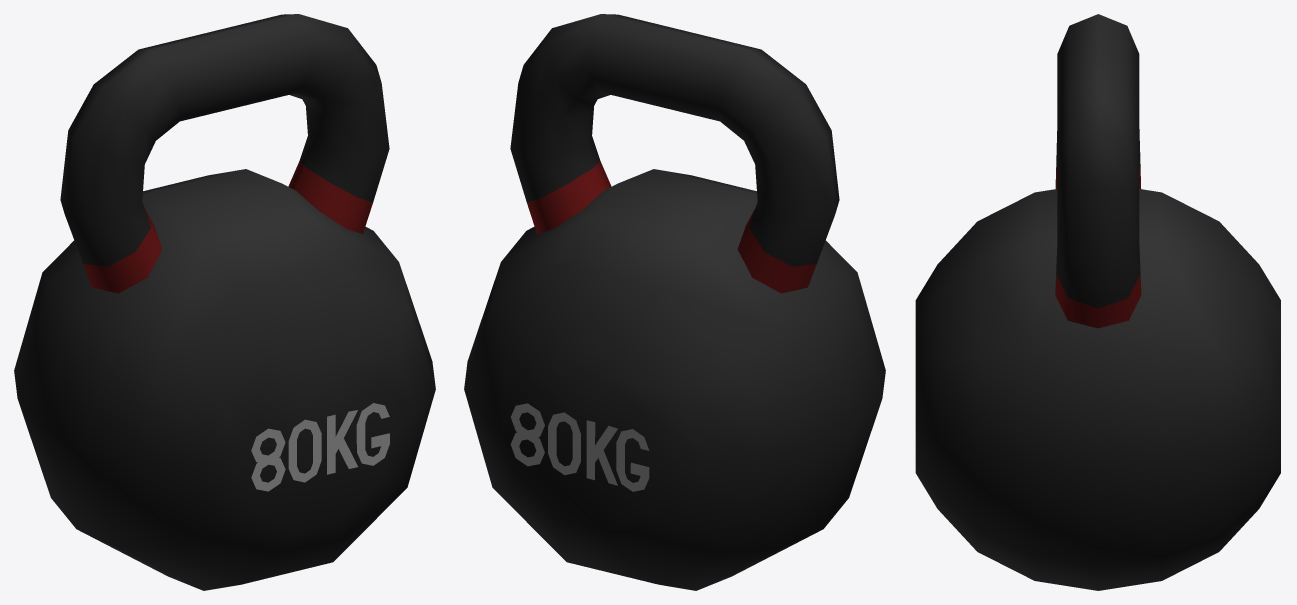
The model's file is grenade_Kettlebell.glb.
3 renders of one model, left to right at view 1: azimuth 30°, elevation 25°; view 2: azimuth 150°, elevation 25°; view 3: azimuth 270°, elevation 25°, orthographic. The views are drawn at different scales.
Visible parts, largest first — view 1: grenade_Kettlebell; view 2: grenade_Kettlebell; view 3: grenade_Kettlebell.
Part boxes in pixels (<box>): grenade_Kettlebell: <box>14,14,435,590</box>; grenade_Kettlebell: <box>464,14,885,590</box>; grenade_Kettlebell: <box>915,14,1280,590</box>.
Size of the model in its own units: 0.1269 by 0.1752 by 0.1136.
